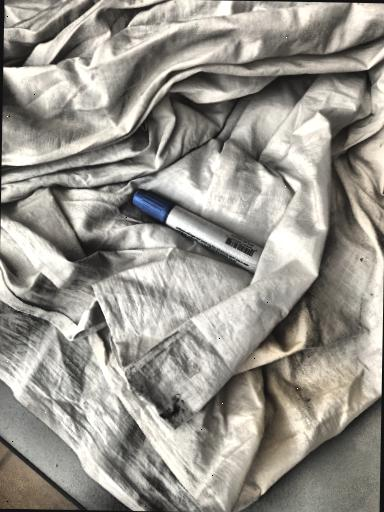marcador azul: (133, 189, 262, 273)
